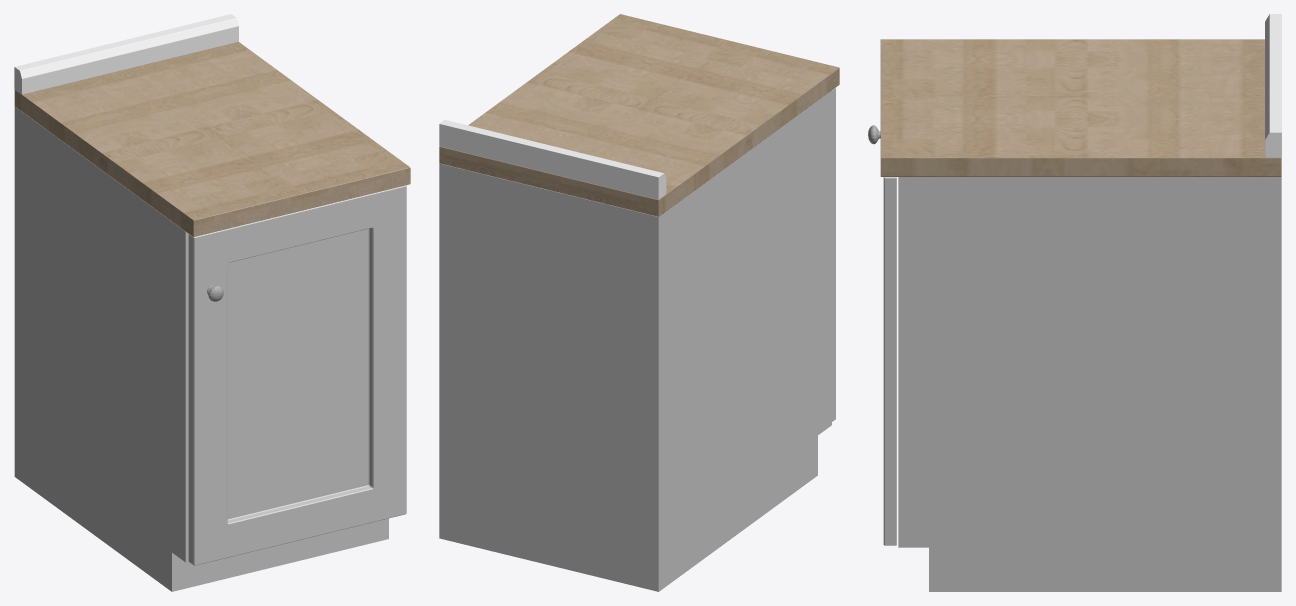
The model's file is kitchenSingleCabinet.obj.
The picture shows the model from 3 angles, left to right: view 1: azimuth 30°, elevation 25°; view 2: azimuth 150°, elevation 25°; view 3: azimuth 270°, elevation 25°; orthographic projection. The views are drawn at different scales.
Visible parts, largest first — view 1: Door-and-Drawers-Right.003_Cube.040, Base-unit-Box-Right.003_Cube.041, Worktop-Right.003_Cube.042, Plane.002_Plane.049; view 2: Base-unit-Box-Right.003_Cube.041, Worktop-Right.003_Cube.042, Plane.002_Plane.049, Door-and-Drawers-Right.003_Cube.040; view 3: Base-unit-Box-Right.003_Cube.041, Worktop-Right.003_Cube.042, Door-and-Drawers-Right.003_Cube.040, Plane.002_Plane.049.
Boxes of the visible parts, <box> form: Door-and-Drawers-Right.003_Cube.040: <box>188,185,406,565</box>; Base-unit-Box-Right.003_Cube.041: <box>14,106,388,591</box>; Worktop-Right.003_Cube.042: <box>14,42,410,236</box>; Plane.002_Plane.049: <box>14,14,238,94</box>; Base-unit-Box-Right.003_Cube.041: <box>439,90,831,591</box>; Worktop-Right.003_Cube.042: <box>439,14,839,216</box>; Plane.002_Plane.049: <box>439,120,666,199</box>; Door-and-Drawers-Right.003_Cube.040: <box>832,87,835,421</box>; Base-unit-Box-Right.003_Cube.041: <box>898,177,1281,591</box>; Worktop-Right.003_Cube.042: <box>880,39,1281,176</box>; Door-and-Drawers-Right.003_Cube.040: <box>883,177,896,545</box>; Plane.002_Plane.049: <box>1265,14,1281,157</box>.
Size of the model in its own units: 48.68 by 87.8 by 71.7.
Materials: 4 (1 with a texture image).
